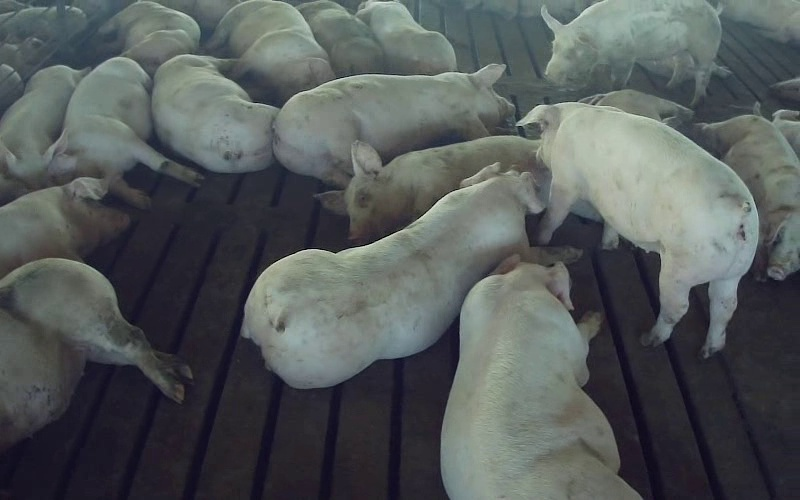pig: (241, 164, 580, 386), (518, 103, 757, 356), (441, 256, 640, 499), (0, 258, 192, 451), (49, 57, 202, 208), (693, 102, 799, 280), (542, 0, 721, 104), (152, 54, 278, 172), (206, 0, 334, 105), (0, 177, 129, 278), (0, 65, 88, 187), (99, 2, 200, 76), (356, 0, 456, 74), (296, 0, 383, 77)
